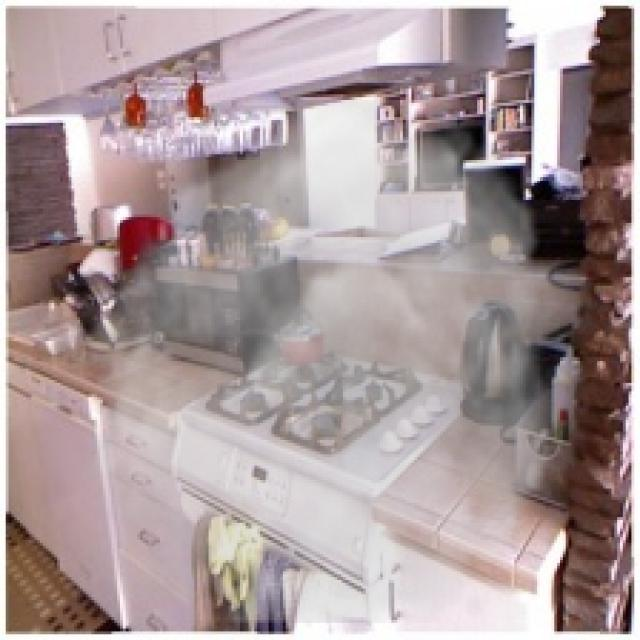smoke: (60, 100, 597, 623)
